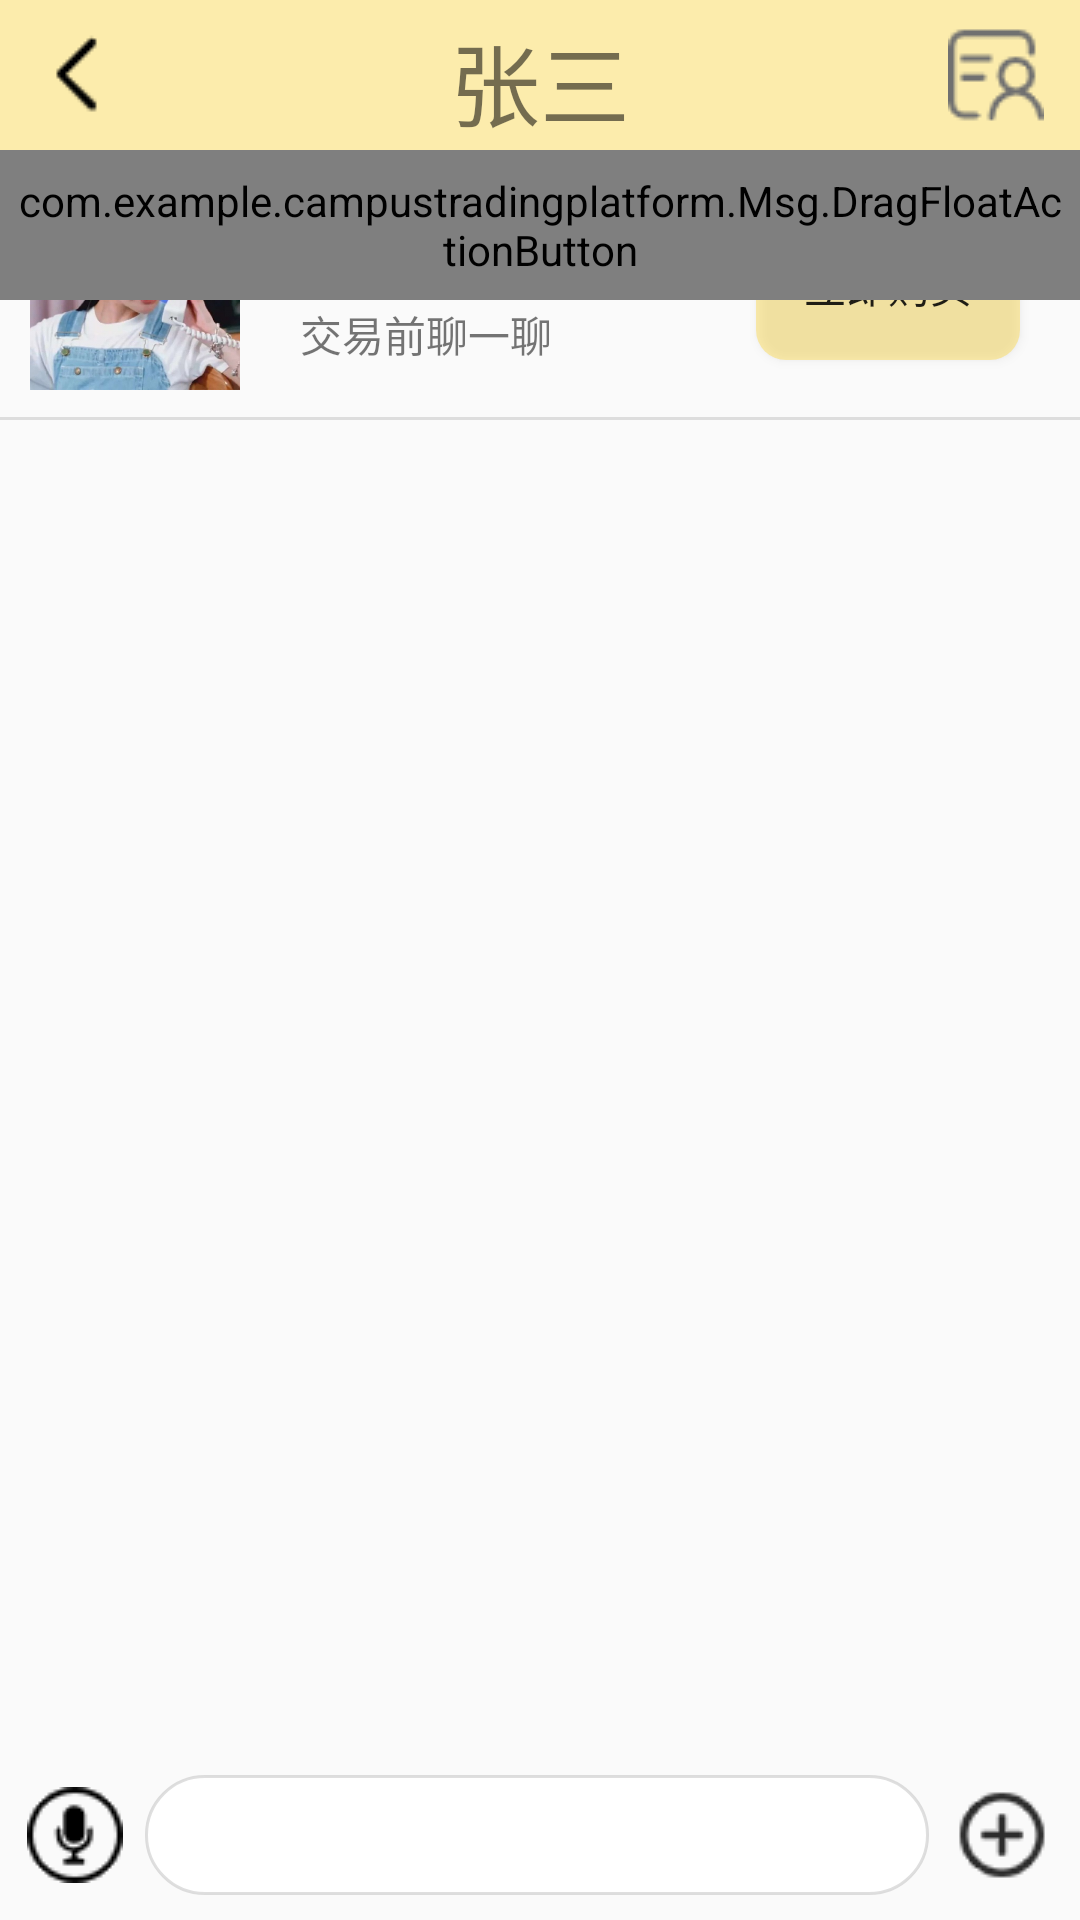

Named icons in this screenshot (1080x1920) and their centers, point (x, y):
back: point (76, 74)
morechoice: point (1002, 1835)
person center: point (1014, 75)
sendvoice: point (75, 1835)
